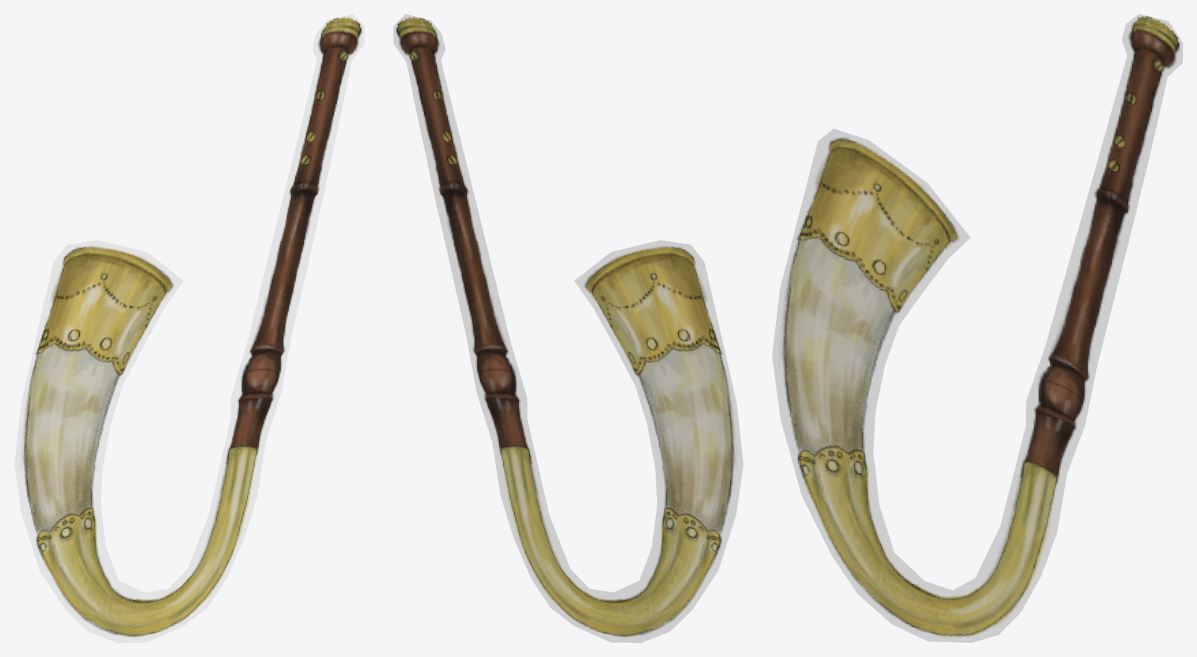
The picture shows the model from 3 angles, left to right: view 1: azimuth 30°, elevation 25°; view 2: azimuth 150°, elevation 25°; view 3: azimuth 330°, elevation 25°; orthographic projection. The views are drawn at different scales.
Visible parts, largest first — view 1: Plane; view 2: Plane; view 3: Plane.
Part boxes in pixels (x1=…): Plane: x1=14, y1=14, x2=364, y2=642; Plane: x1=393, y1=14, x2=743, y2=642; Plane: x1=772, y1=14, x2=1182, y2=642.
Size of the model in its own units: 2.56 by 4.04 by 0.
Materials: 1 (1 with a texture image).
